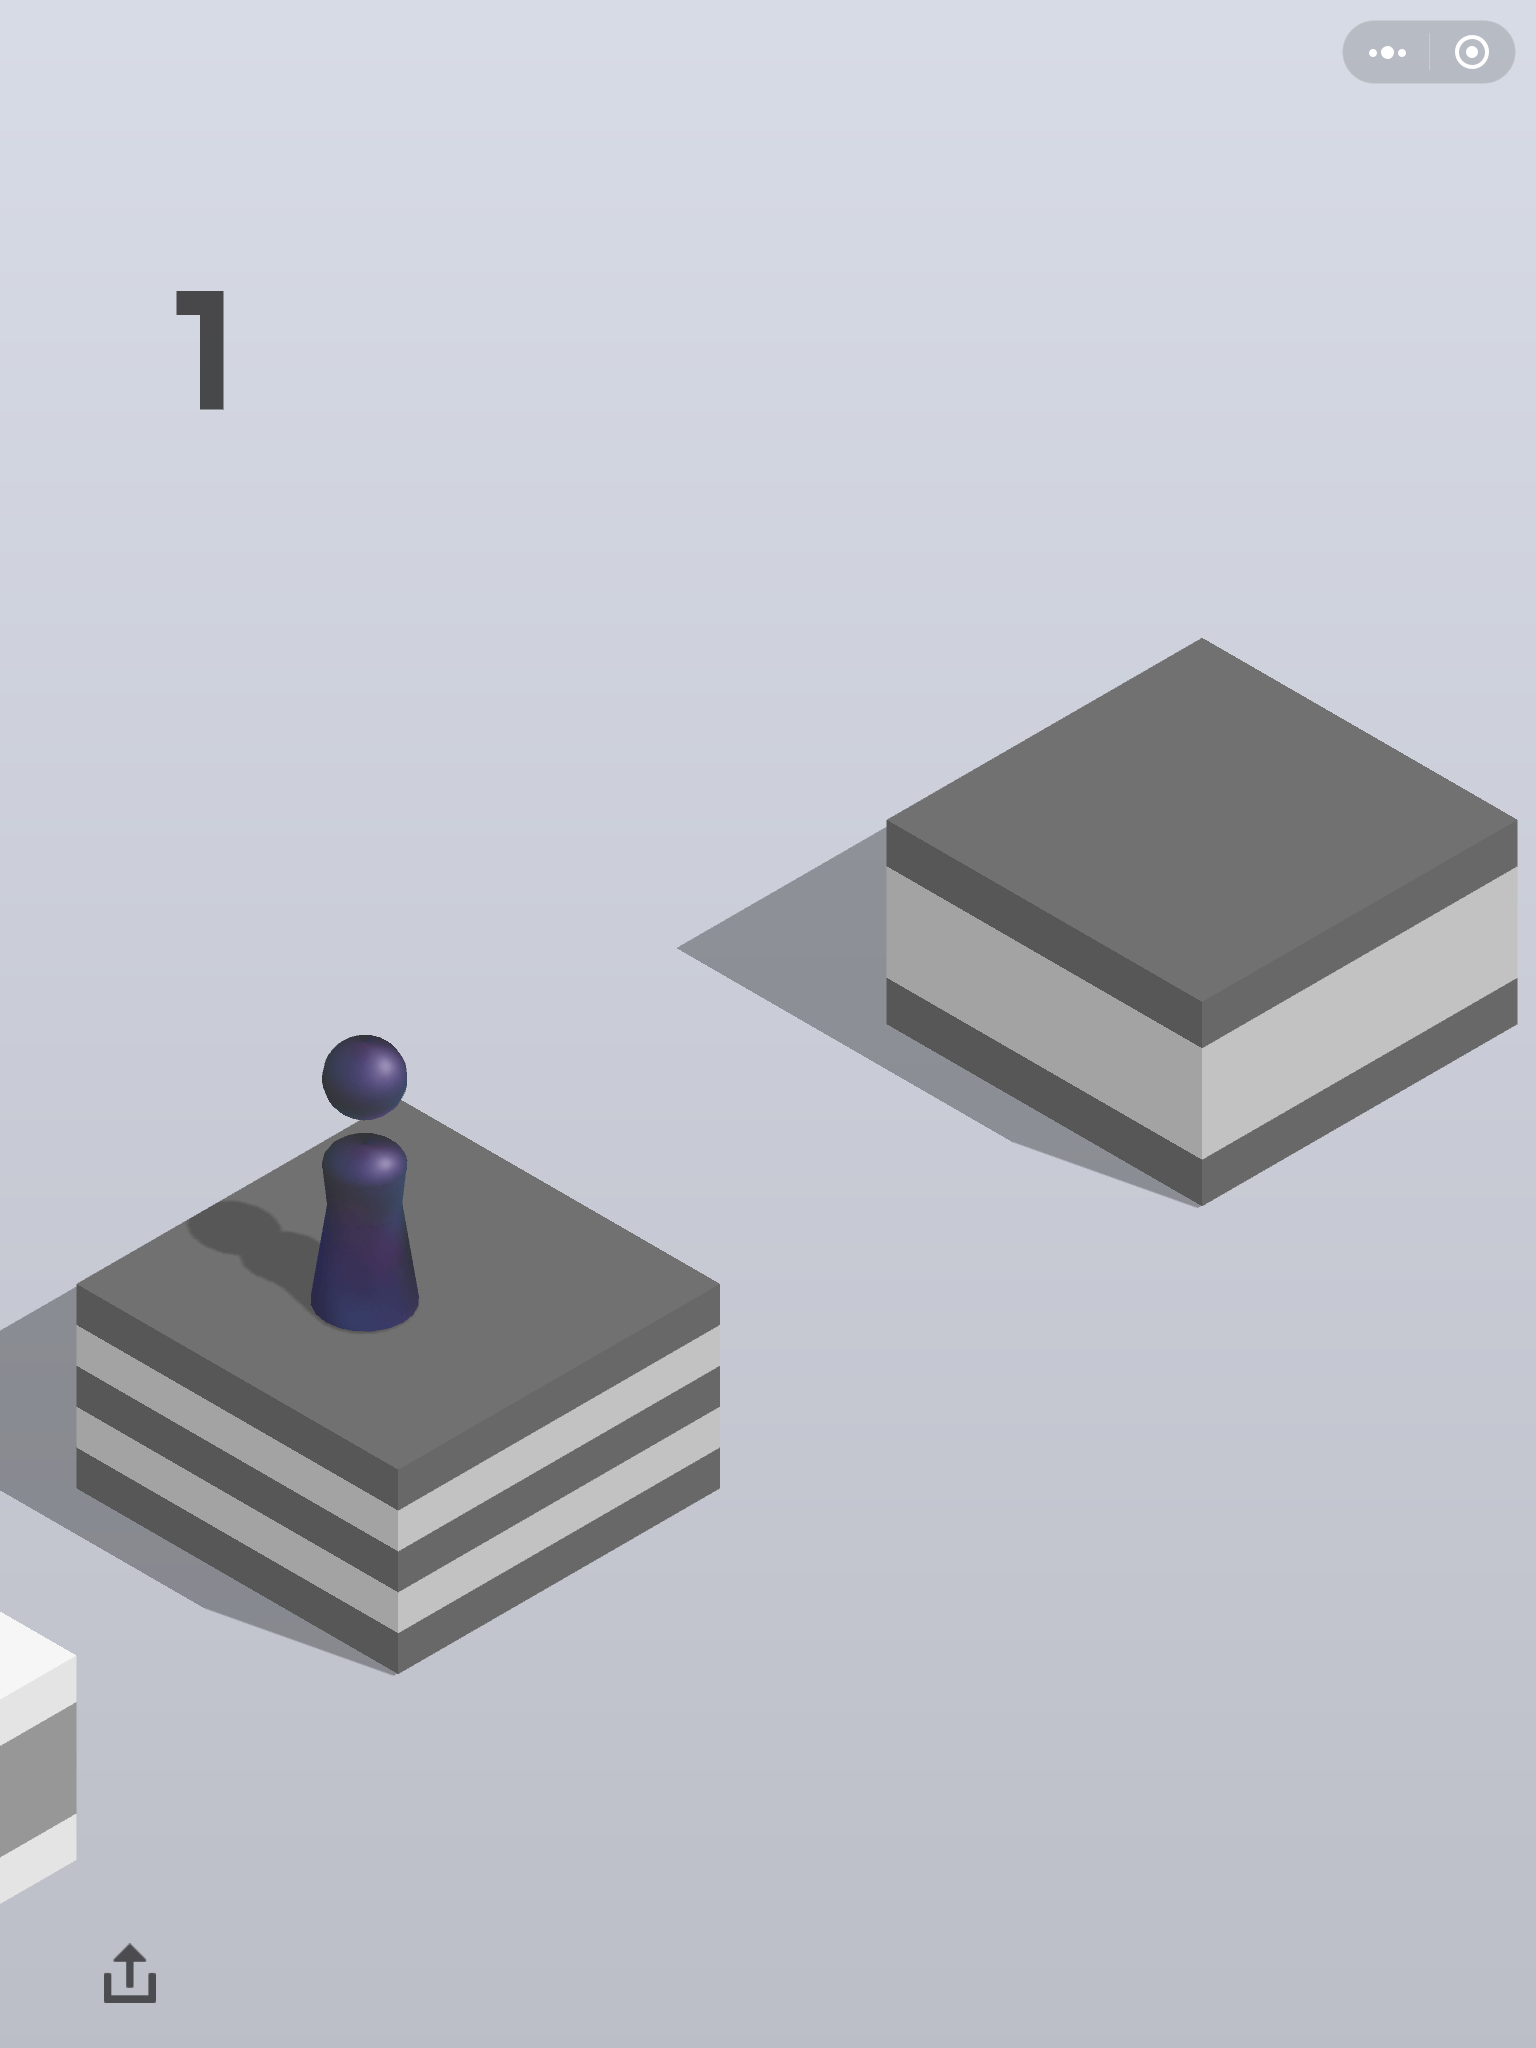f: (71, 1092, 728, 1679), (881, 632, 1526, 1214)
r: (308, 1030, 426, 1338)
